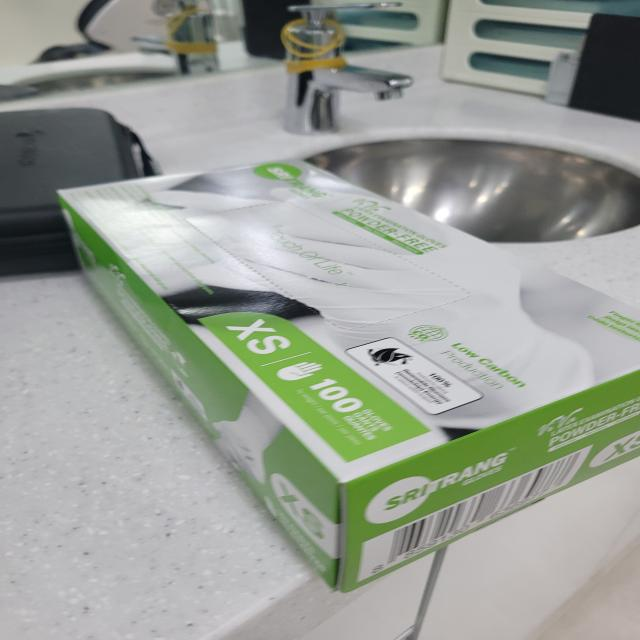glove: (27, 157, 640, 599)
